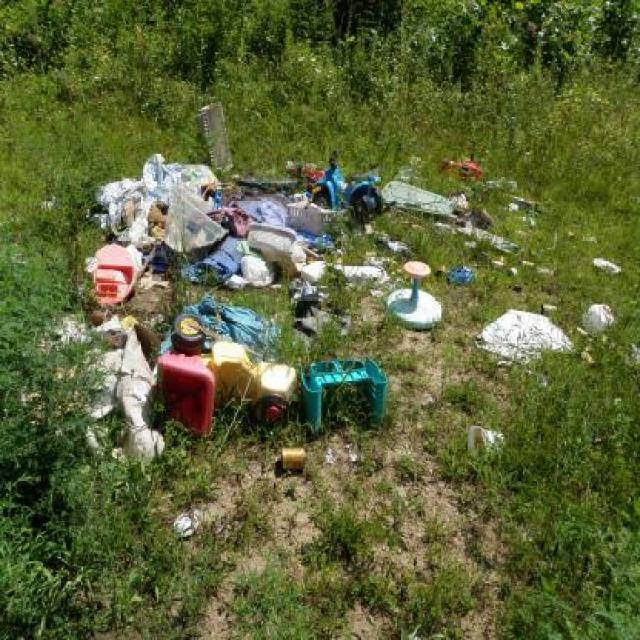garbage: (66, 279, 400, 464), (92, 149, 384, 278)
